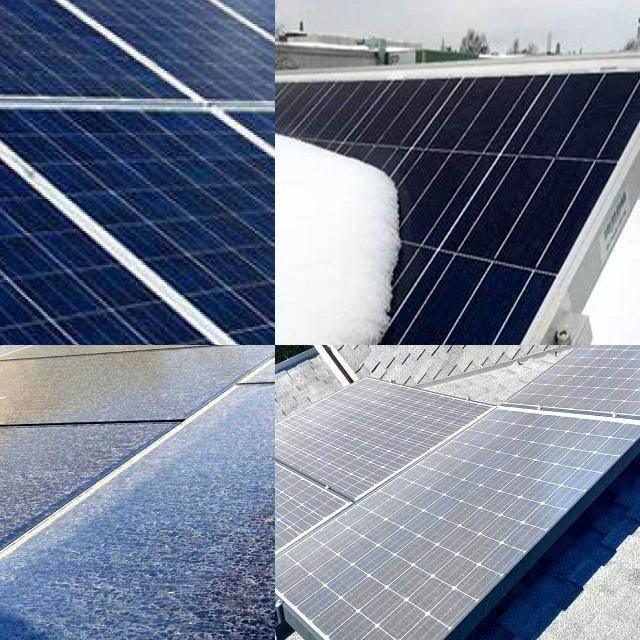crack: (0, 96, 275, 345), (0, 98, 275, 345), (0, 0, 275, 150), (0, 0, 220, 184), (114, 0, 275, 140)
dust: (93, 505, 251, 640), (21, 352, 210, 422), (314, 521, 432, 619), (406, 464, 540, 522), (0, 549, 77, 640), (514, 404, 604, 474), (306, 413, 406, 462), (233, 387, 275, 499), (0, 427, 45, 507), (275, 490, 341, 536), (422, 414, 496, 452), (576, 347, 612, 398)
panel: (297, 114, 402, 224), (350, 242, 431, 345), (360, 196, 416, 276), (275, 86, 315, 172), (308, 312, 379, 345), (275, 51, 317, 98), (275, 107, 301, 175)
